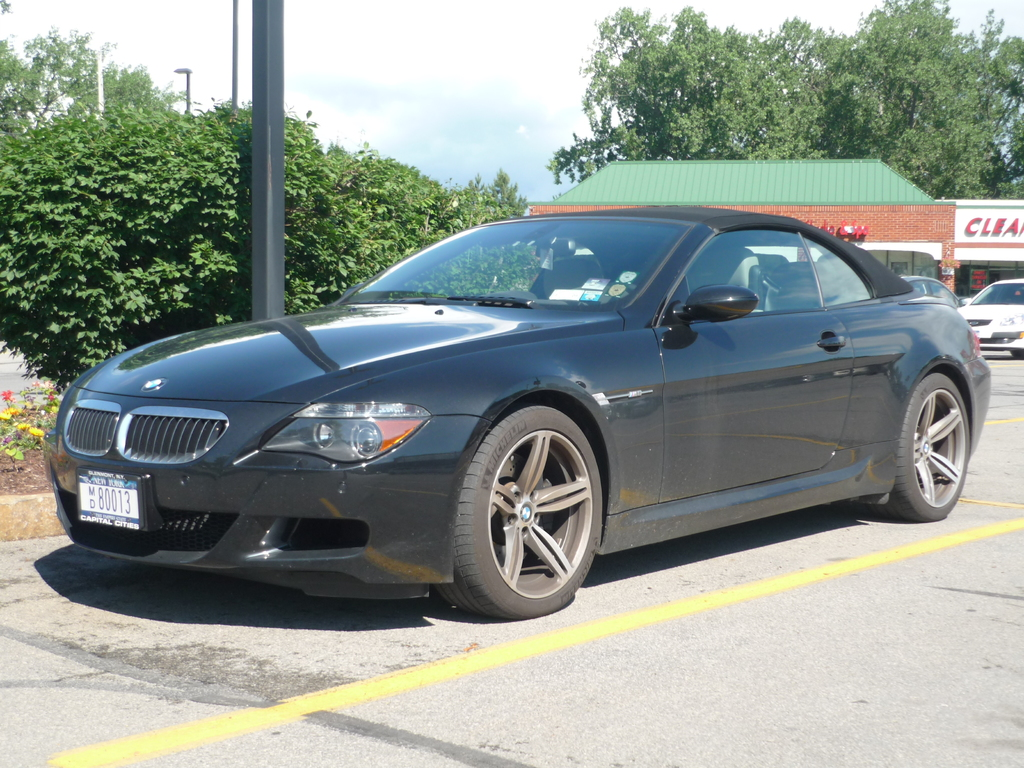Car: (54, 198, 1004, 615), (961, 282, 1023, 360), (901, 275, 964, 308)
